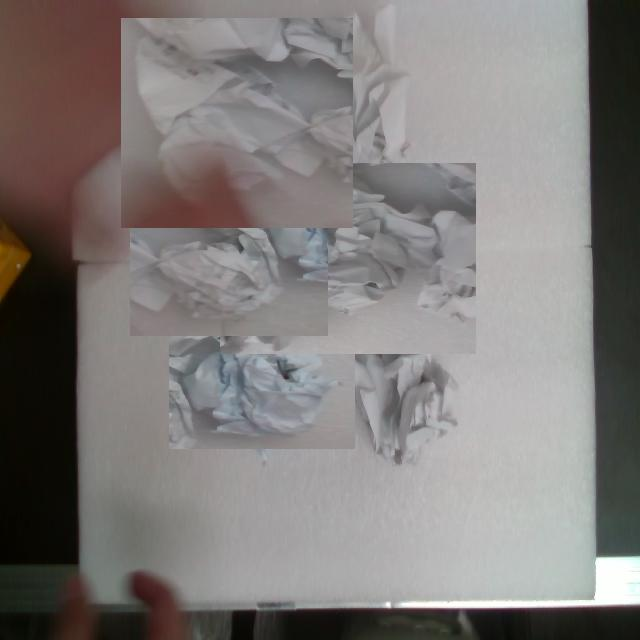paper: (67, 17, 353, 289), (219, 114, 480, 376), (297, 256, 504, 497), (129, 192, 328, 344), (280, 2, 423, 195), (169, 320, 359, 463)
